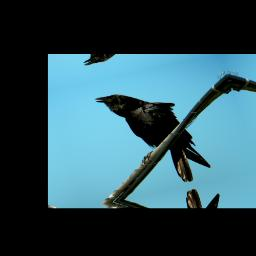Crow: (94, 78, 215, 197)
